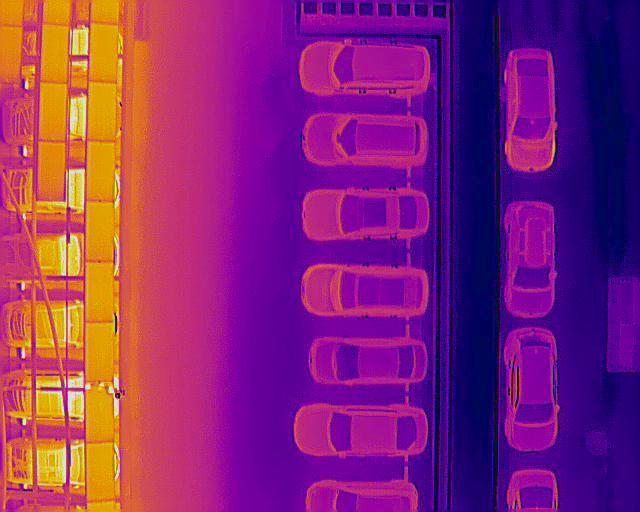Cell-Multi: (85, 381, 115, 443)
No-Anomaly: (34, 142, 67, 202), (37, 82, 69, 142), (87, 83, 119, 142), (84, 262, 115, 322), (86, 200, 115, 262), (90, 22, 119, 82), (84, 443, 114, 501), (87, 141, 115, 201), (86, 323, 114, 381), (42, 25, 70, 83), (0, 25, 22, 84)
